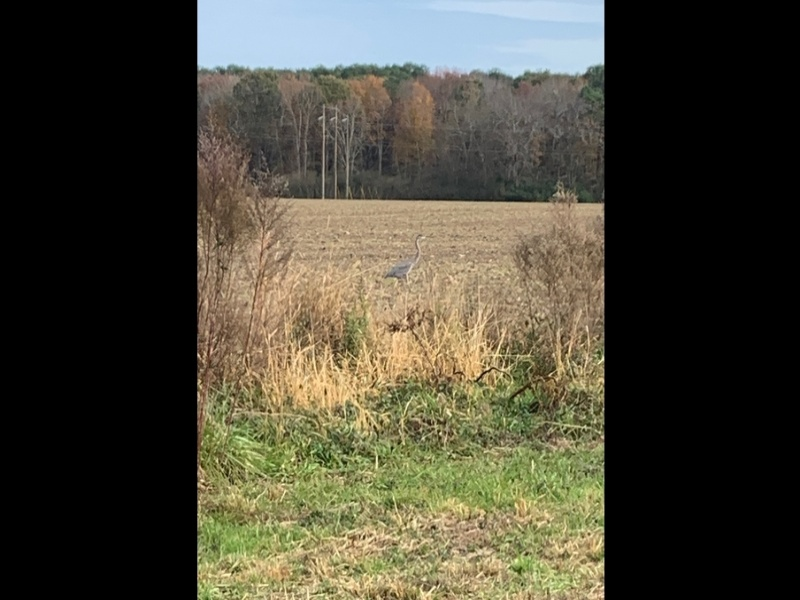heron: (380, 231, 428, 298)
